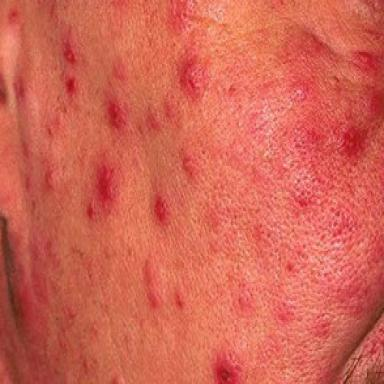acne: (329, 75, 384, 163), (179, 48, 210, 103), (212, 349, 243, 383), (349, 51, 384, 79), (144, 259, 163, 310), (96, 166, 118, 209), (106, 95, 130, 132), (233, 283, 255, 317), (290, 179, 313, 210), (168, 0, 187, 34), (181, 150, 201, 181), (163, 92, 180, 126), (154, 193, 171, 226), (289, 79, 310, 105), (63, 29, 77, 65), (145, 104, 161, 131), (113, 57, 127, 84), (14, 73, 25, 107), (47, 112, 63, 135), (314, 316, 329, 337), (65, 73, 77, 96), (174, 287, 185, 310), (7, 4, 19, 25), (45, 169, 54, 189), (111, 371, 125, 383), (87, 199, 95, 219), (25, 173, 32, 193), (21, 143, 31, 155)
